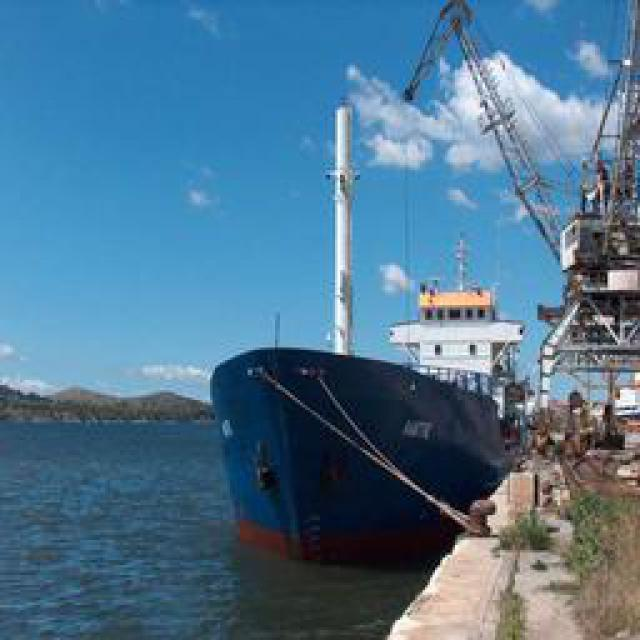Ship: (212, 345, 510, 563)
